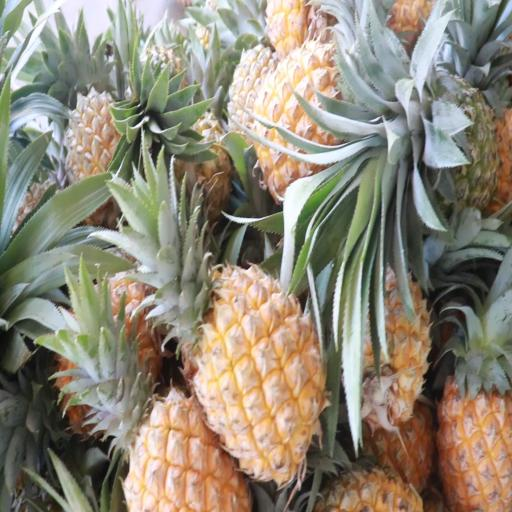Pineapple - v8 v1: (174, 262, 326, 477), (253, 44, 394, 203), (126, 349, 250, 512), (439, 302, 512, 512)
